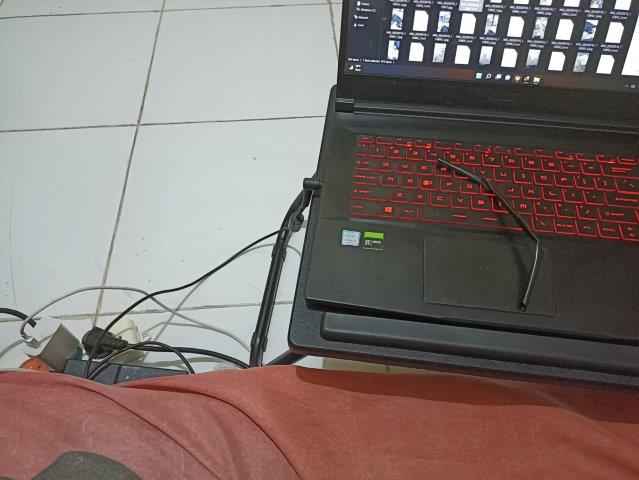sedotan: (439, 158, 542, 311)
